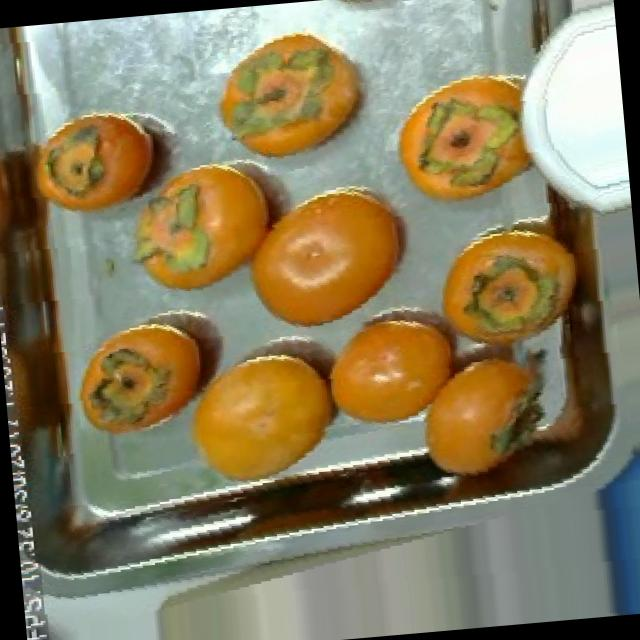Fruit: (216, 160, 444, 342), (192, 8, 393, 182), (160, 329, 364, 492), (374, 51, 562, 226), (416, 204, 602, 367), (304, 286, 484, 450), (397, 329, 573, 487), (63, 301, 229, 454), (25, 95, 177, 232)
